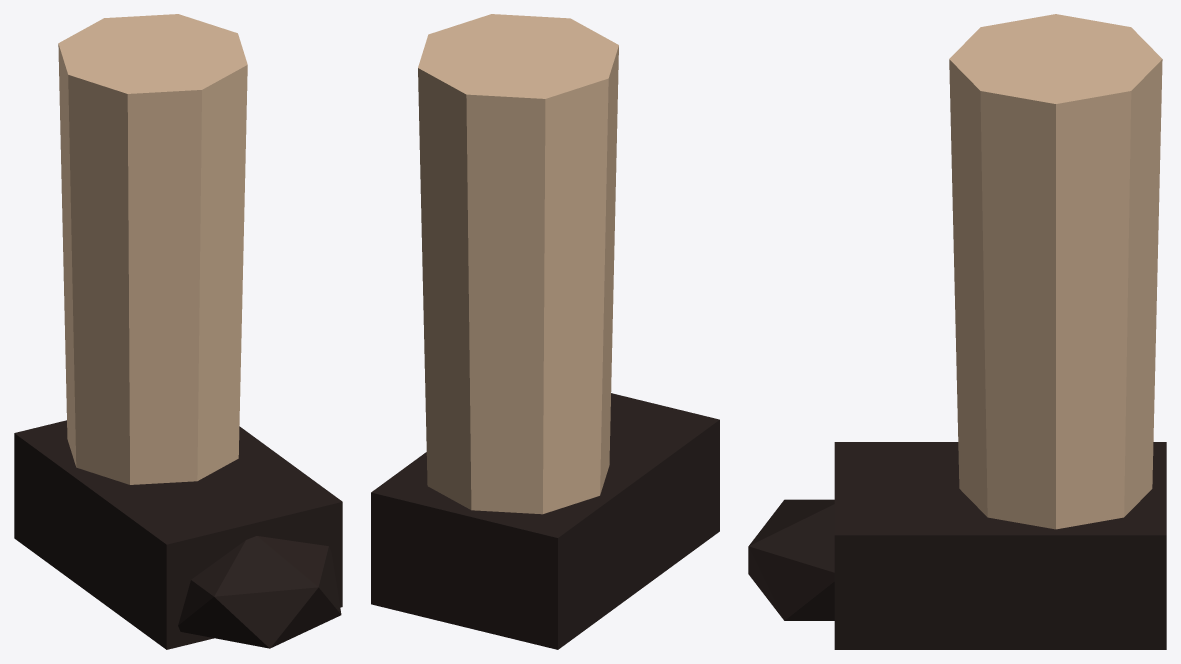
Rendered from insan_k1k_bacak.glb.
The picture shows the model from 3 angles, left to right: view 1: azimuth 30°, elevation 25°; view 2: azimuth 150°, elevation 25°; view 3: azimuth 270°, elevation 25°; orthographic projection. The views are drawn at different scales.
Parts seen in each view (by area): view 1: Cone; view 2: Cone; view 3: Cone.
Boxes of the visible parts, x1,y1,x2,y2 form: Cone: (14,14,342,649); Cone: (371,14,719,649); Cone: (748,14,1166,649).
Bounding box in the file's own units: 0.028 × 0.0784 × 0.0529.
